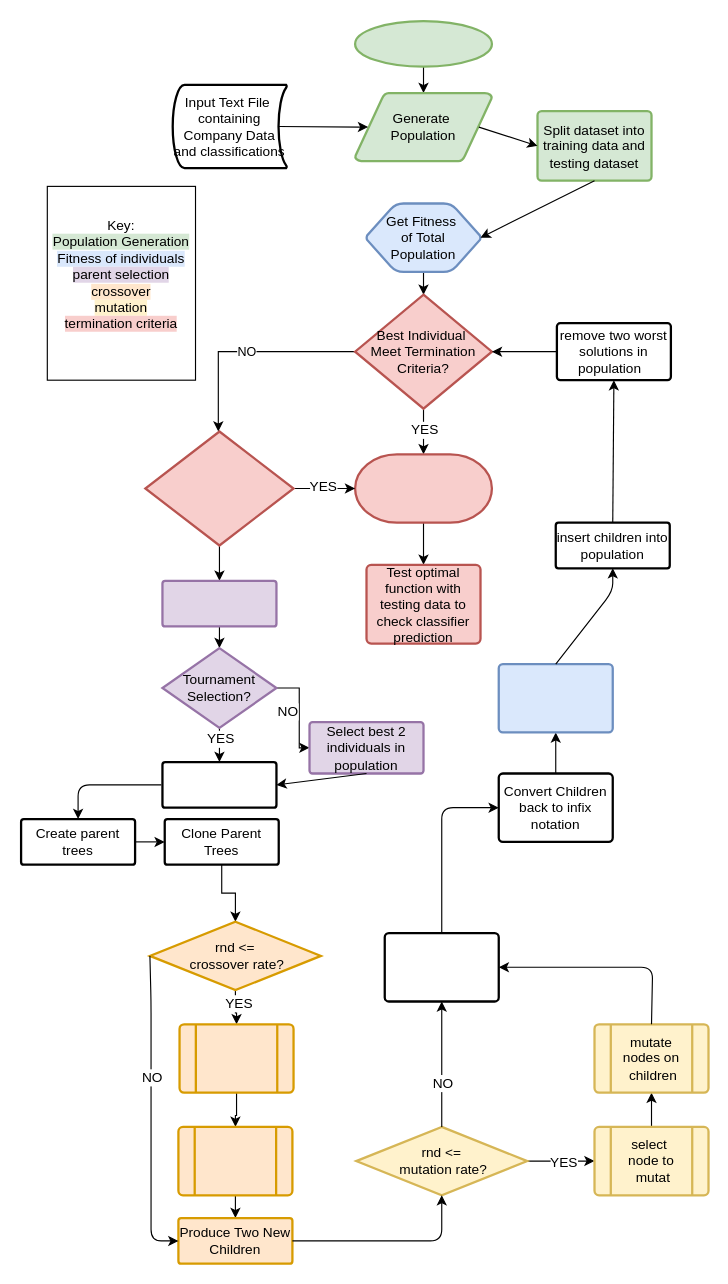
Some shapes in this 728 by 1284 pixel diagram are drawn without their labels. The shapes that lost their labels are listed below. From the top down, each one's centre as x and y in pixels, then its label:
At (422,43): "Start".
At (219,488): "Max iteration termination met?".
At (422,488): "Return Best Fitness & Optimal Function STOP".
At (219,603): "Select Parents".
At (555,697): "Get fitness of children".
At (219,784): "Convert Parents to Prefix Notation".
At (441,966): "Deconstruct Children into prefix notation".
At (236,1058): "select cross over points on clones".
At (235,1160): "swap subtrees over".
